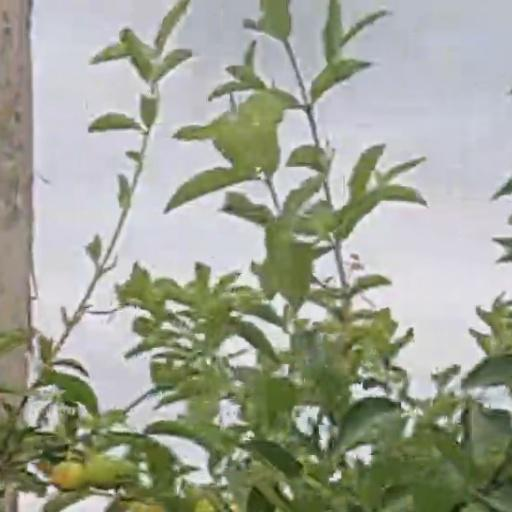acerola: (86, 455, 121, 484), (54, 462, 82, 488)
